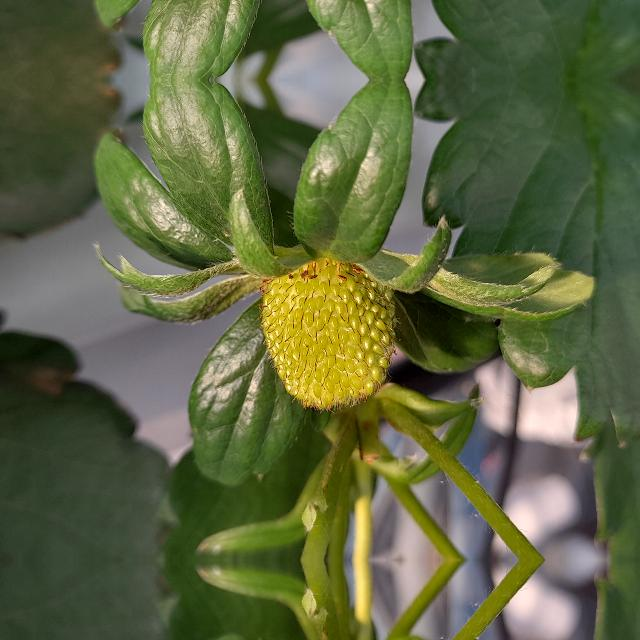Health_25: (256, 256, 399, 414)
